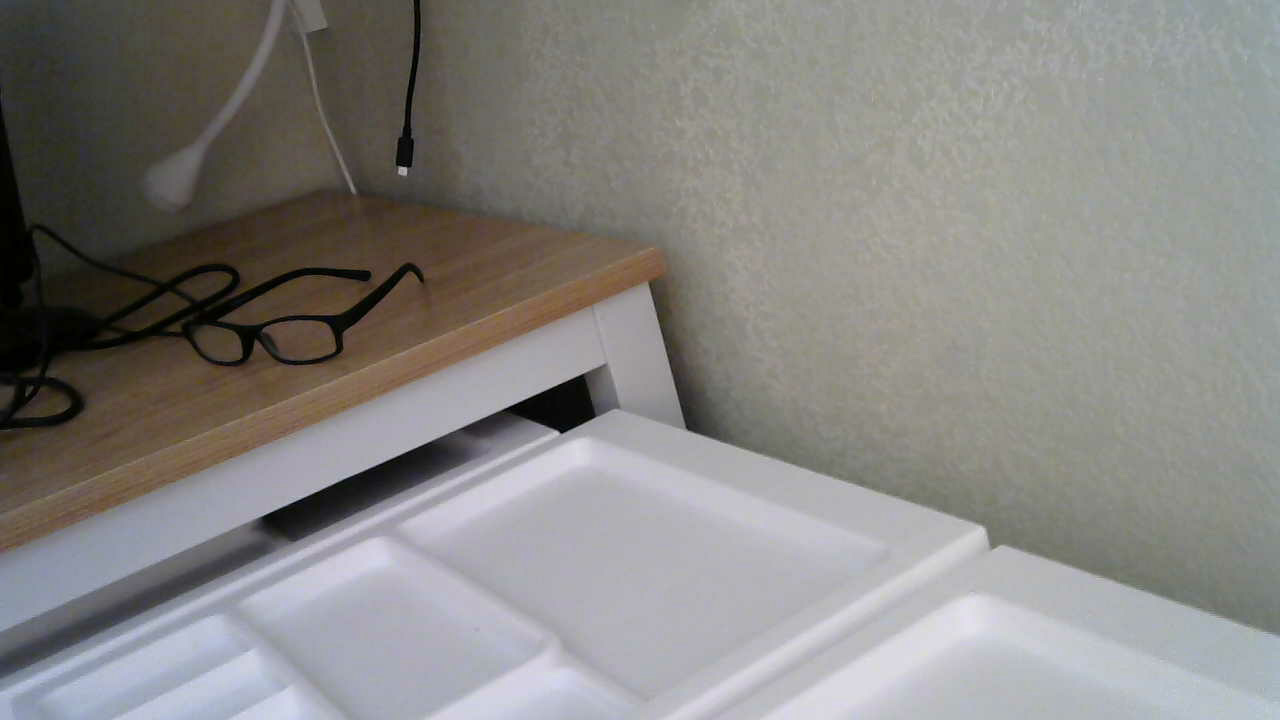Glasses: (158, 301, 391, 389)
